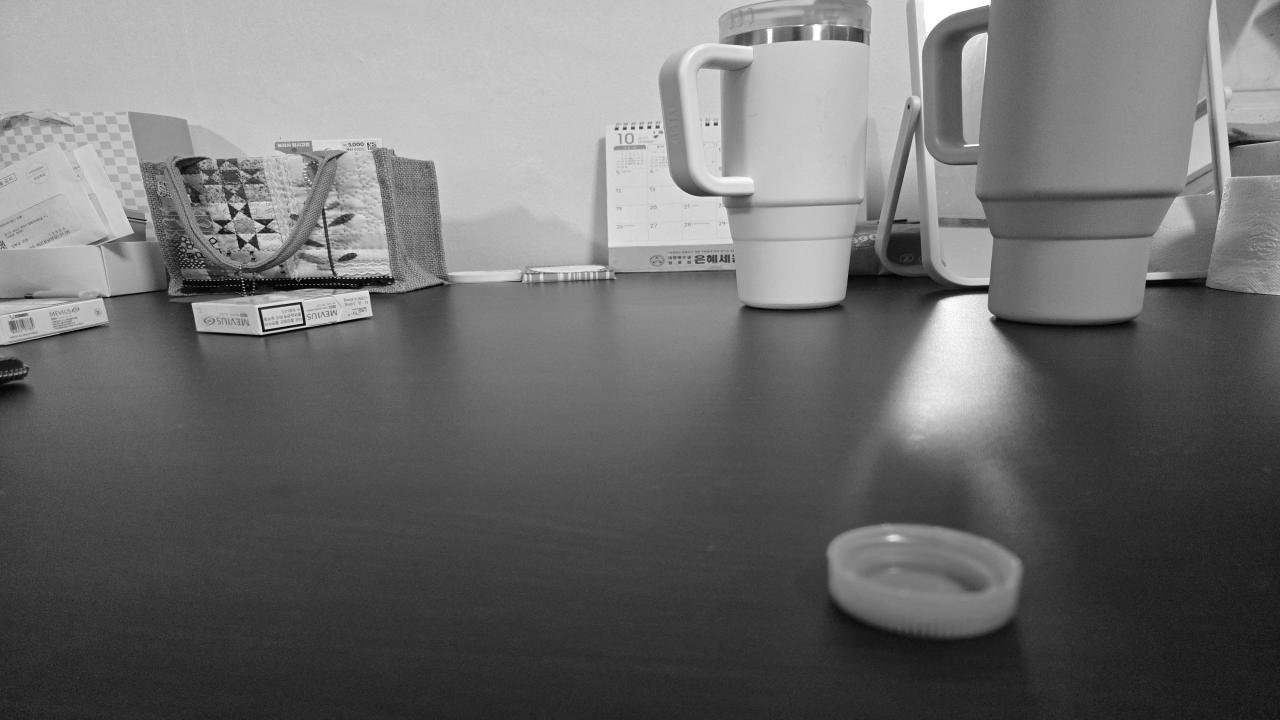bottle_cap: (832, 526, 1019, 634)
